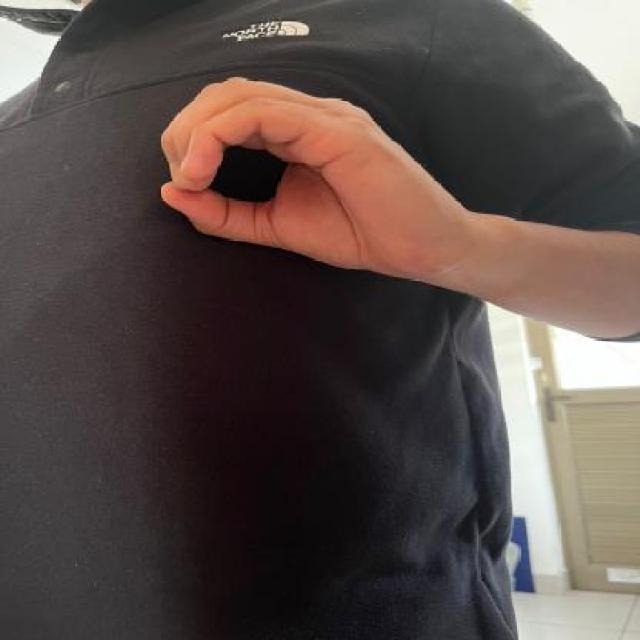O: (154, 71, 441, 287)
